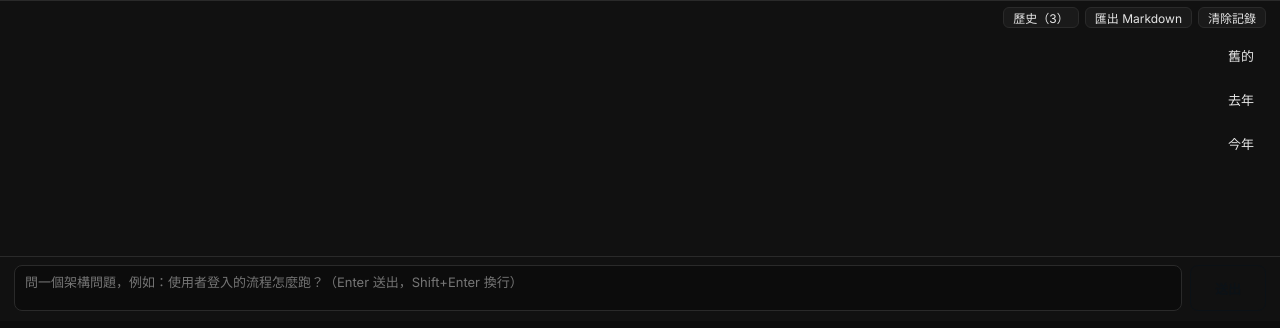
QaPanel › 歷史 › 有提問時間就顯示（今年省略年份、跨年顯示年份）；舊記錄沒有時間就不顯示
The width and height of the screenshot is (1280, 328).
Step 1. Click the button "歷史（3）" → {"x": 1041, "y": 18}, box [1003,7,1079,28]
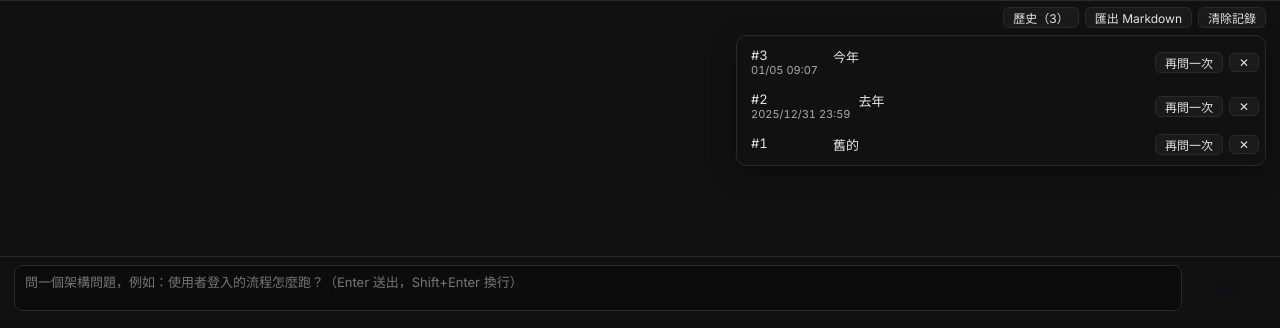
Expected: the text "01/05 09:07" is shown, [751,63,818,77]
